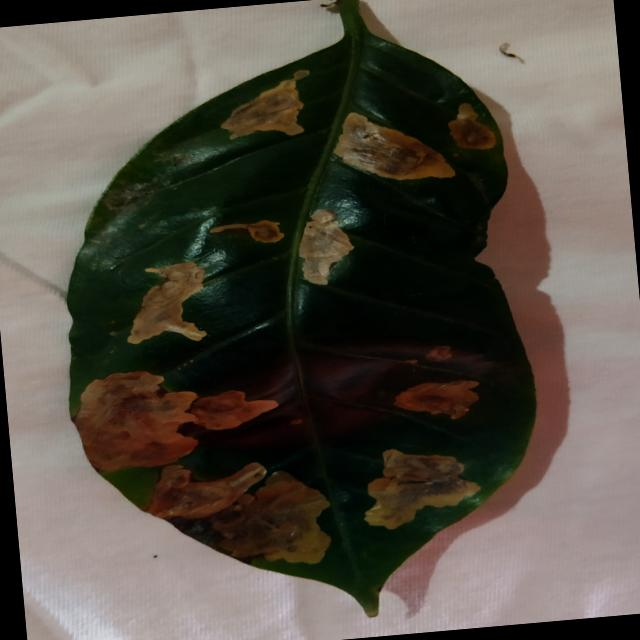PengorokDaunKopi: (74, 371, 197, 470), (211, 470, 330, 563), (365, 448, 480, 529), (334, 112, 454, 180), (145, 462, 266, 519), (127, 262, 206, 344), (221, 70, 309, 139), (299, 209, 354, 284), (191, 390, 278, 429), (394, 379, 479, 418), (448, 103, 496, 149), (169, 517, 220, 549), (210, 220, 284, 242), (426, 345, 452, 361), (290, 418, 302, 424)
